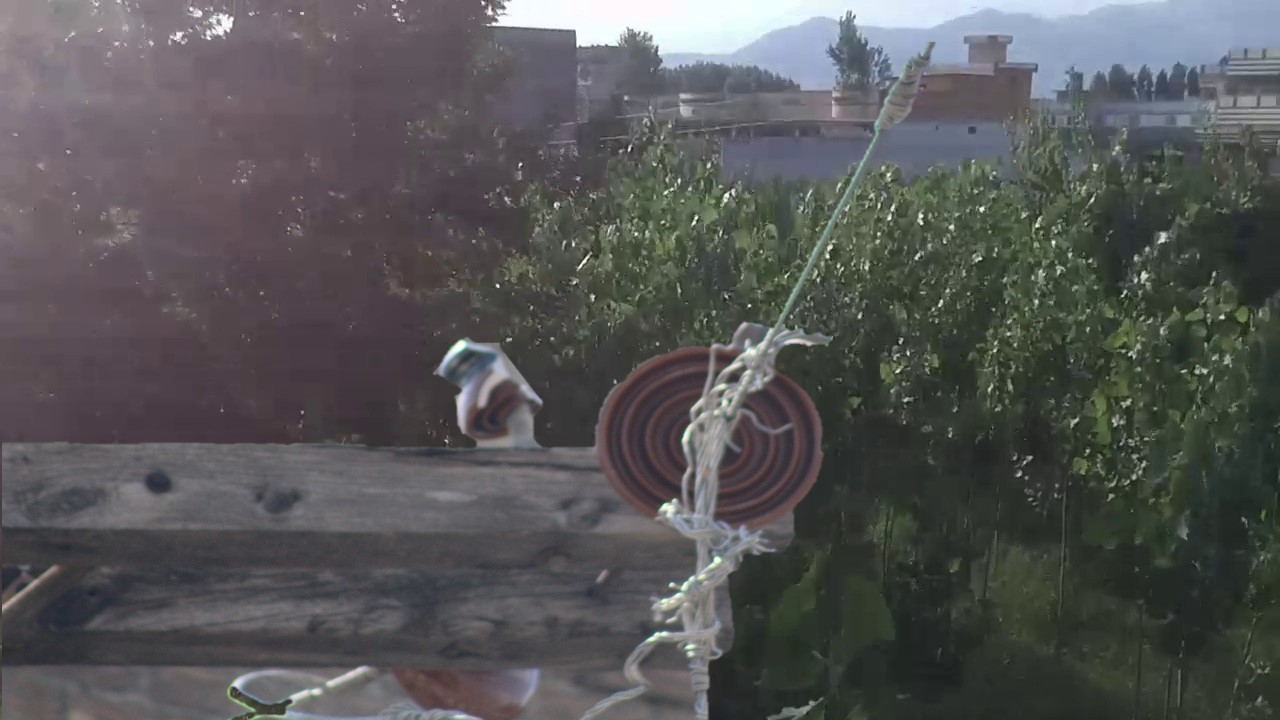defect_pin: (430, 331, 548, 448)
insulator_disc: (593, 336, 831, 540)
